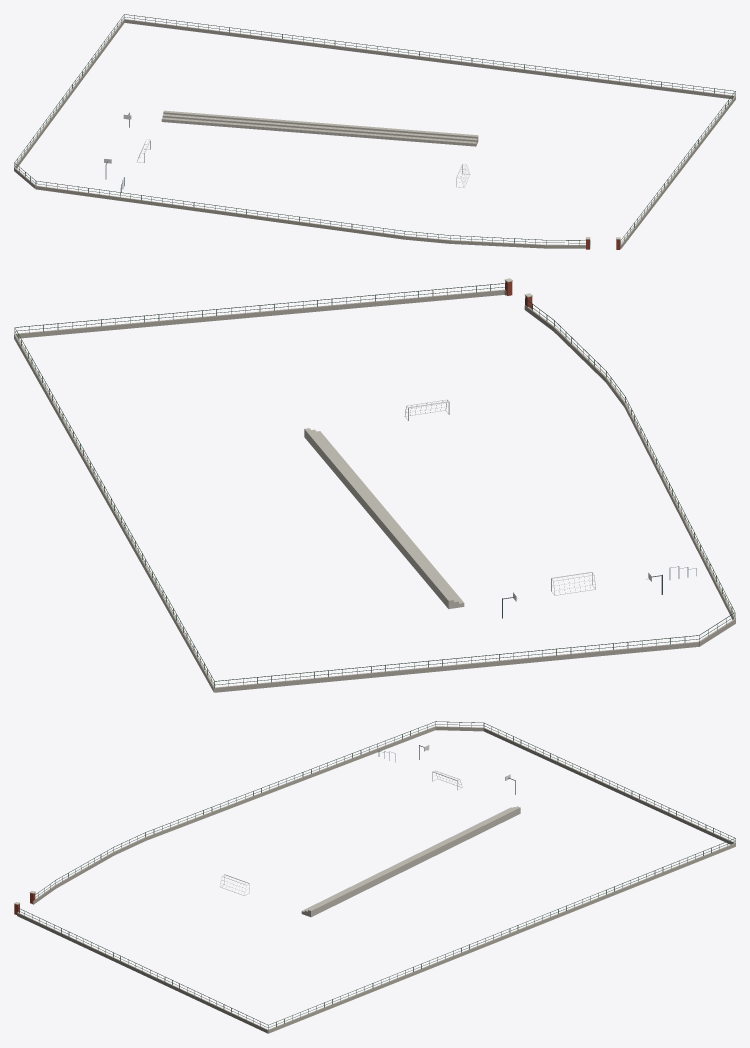
The picture shows the model from 3 angles, top to bottom: view 1: azimuth 30°, elevation 25°; view 2: azimuth 150°, elevation 25°; view 3: azimuth 270°, elevation 25°; orthographic projection. The views are drawn at different scales.
Parts seen in each view (by area): view 1: site-wall-concrete, site-stand-concrete, site-fence; view 2: site-wall-concrete, site-fence, site-stand-concrete; view 3: site-wall-concrete, site-fence, site-stand-concrete.
Boxes of the visible parts, x1,y1,x2,y2 form: site-wall-concrete: (14, 19, 735, 248); site-stand-concrete: (161, 110, 478, 146); site-fence: (14, 14, 735, 244); site-wall-concrete: (14, 289, 735, 692); site-fence: (14, 283, 735, 687); site-stand-concrete: (304, 428, 464, 609); site-wall-concrete: (17, 726, 735, 1033); site-fence: (17, 721, 735, 1029); site-stand-concrete: (301, 806, 520, 917).
Size of the model in its own units: 163 by 4.25 by 163.
